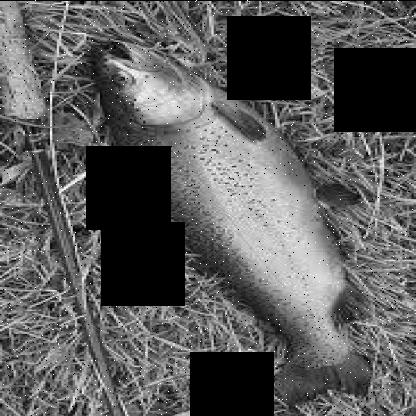fish: (84, 45, 376, 403)
